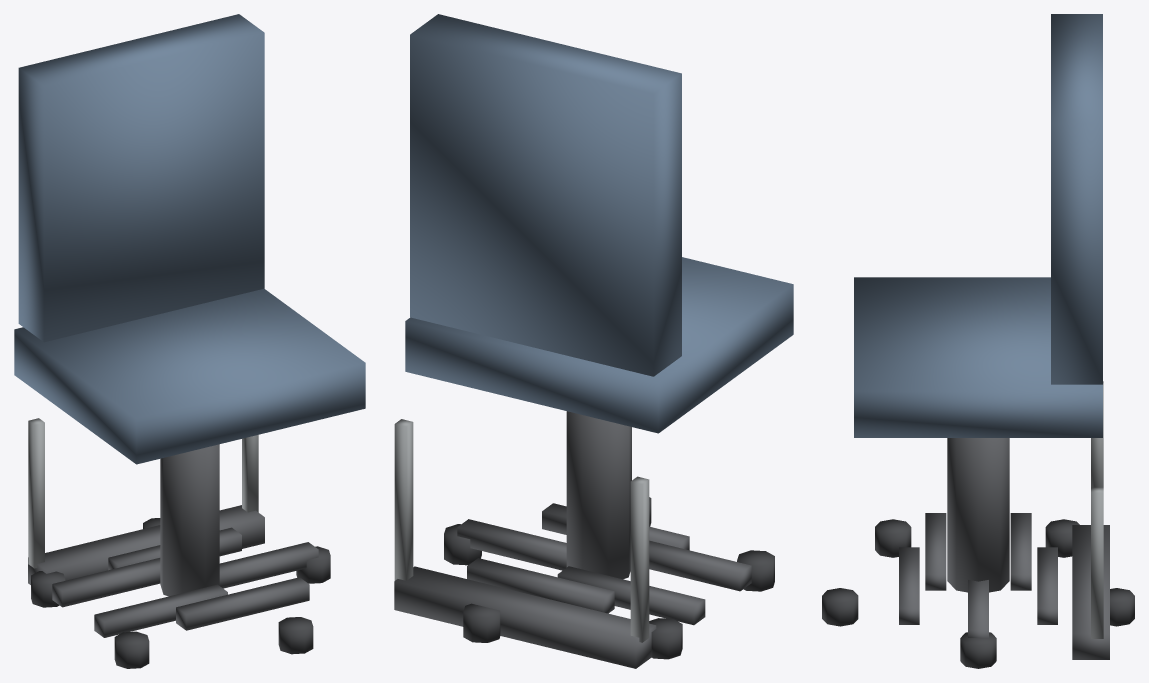
Rendered from office_task_chair__reinforced.glb.
3 renders of one model, left to right at view 1: azimuth 30°, elevation 25°; view 2: azimuth 150°, elevation 25°; view 3: azimuth 270°, elevation 25°, orthographic. The views are drawn at different scales.
Visible parts, largest first — view 1: world; view 2: world; view 3: world.
Part boxes in pixels (<box>): world: <box>14,14,365,668</box>; world: <box>394,14,793,668</box>; world: <box>822,14,1134,668</box>.
Bounding box in the file's own units: 0.5938 × 1.16 × 0.6207.
